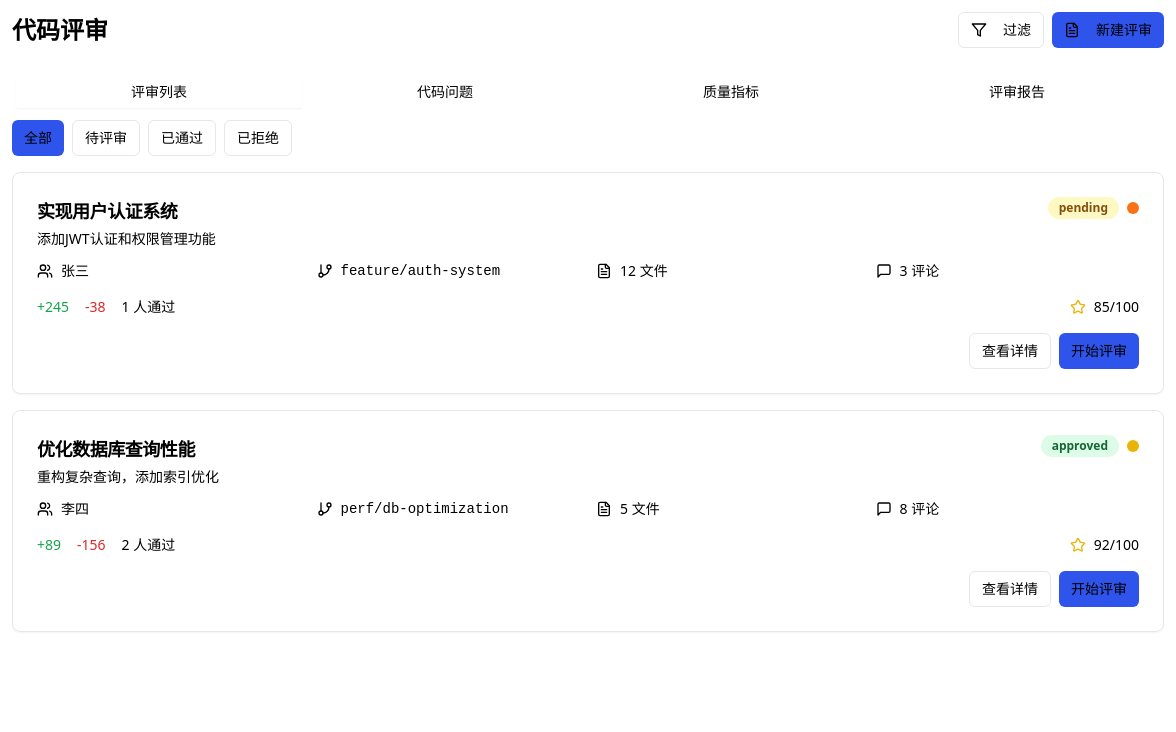
Test case: CodeReviewPanel › filters reviews by status
This screenshot has width=1176, height=732.
Expected: the text "实现用户认证系统" is shown, x1=37 y1=199 x2=177 y2=223
Expected: the text "优化数据库查询性能" is shown, x1=37 y1=435 x2=219 y2=463
Click on 'pending' filter
Click the button "待评审".
click(106, 138)  # box x1=72 y1=120 x2=140 y2=156
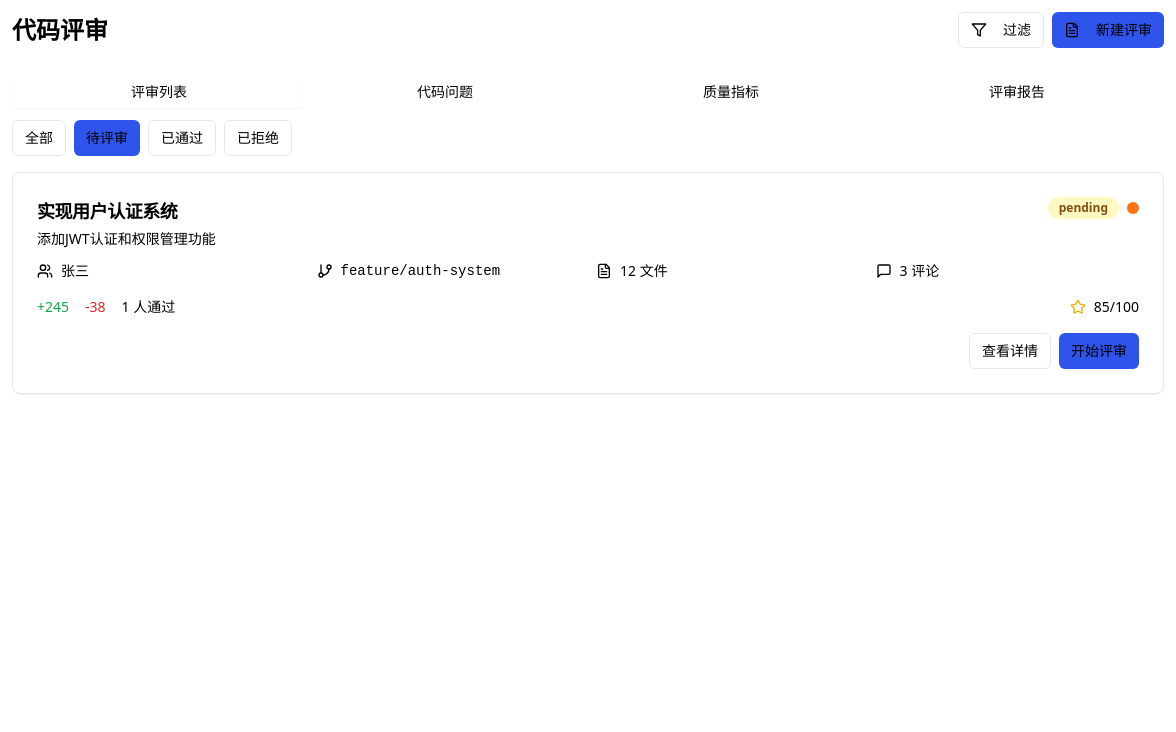
Expected: the text "实现用户认证系统" is shown, x1=37 y1=199 x2=177 y2=223
Result: the text "优化数据库查询性能" is gone
Click on 'approved' filter
Click the button "已通过".
click(182, 138)  # box x1=148 y1=120 x2=216 y2=156
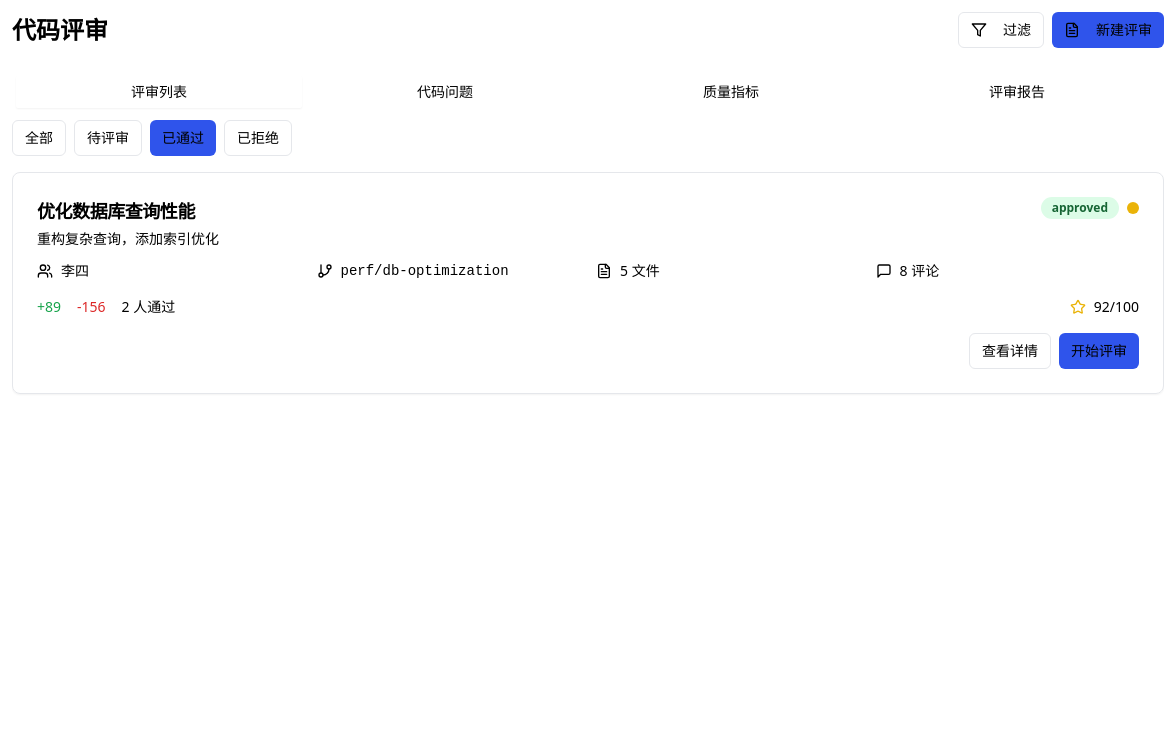
Result: the text "实现用户认证系统" is gone
Result: the text "优化数据库查询性能" is shown at x1=37 y1=197 x2=219 y2=225
Click on 'all' filter
Click the button "全部".
click(39, 138)  # box x1=12 y1=120 x2=66 y2=156
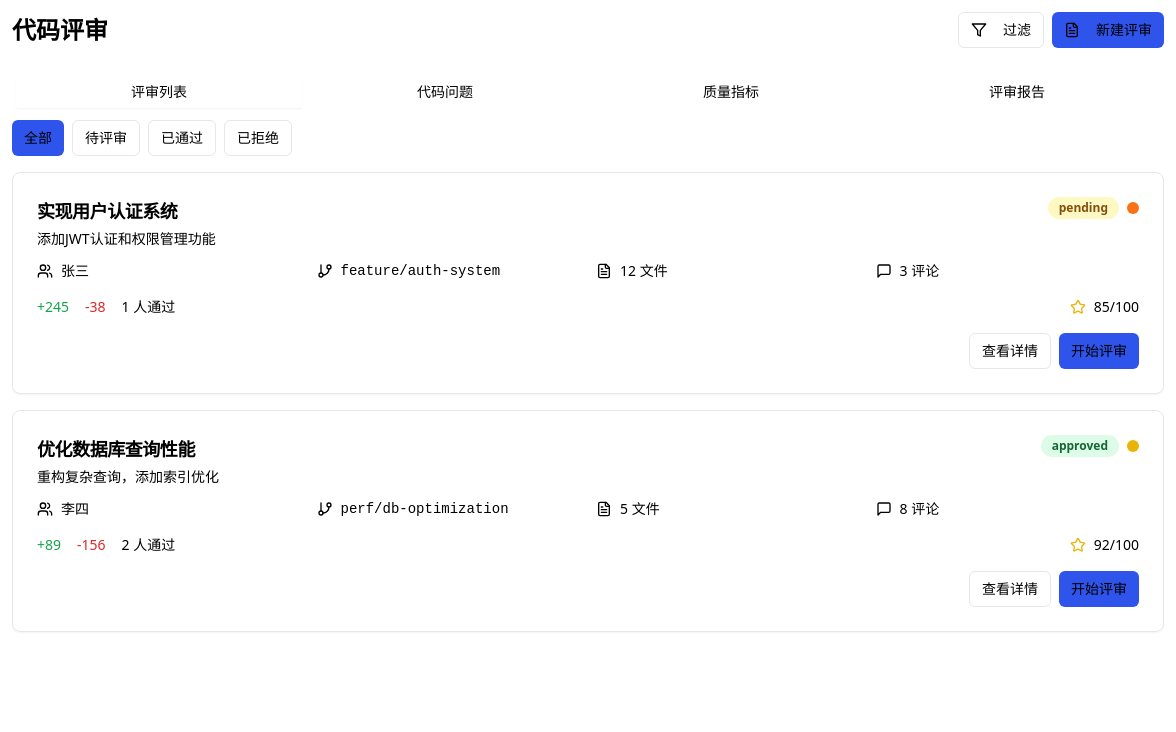
Result: the text "优化数据库查询性能" is shown at x1=37 y1=435 x2=219 y2=463
Result: the text "实现用户认证系统" is shown at x1=37 y1=199 x2=177 y2=223
